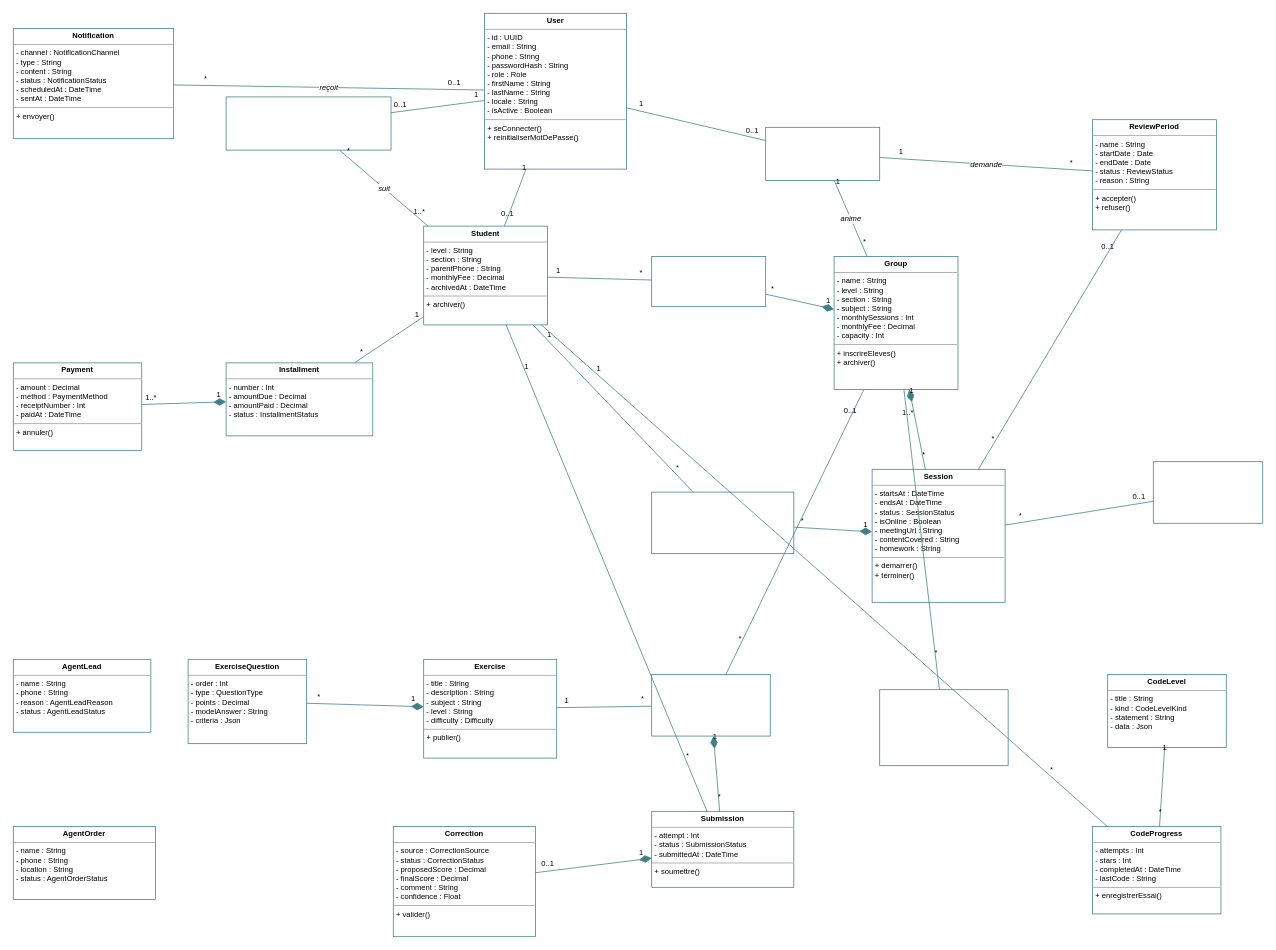
This 1276x950 diagram has some shape labels left out. Each missing label, with the centre of its shape:
"Attendance - status : AttendanceStatus - note : String - markedAt : DateTime" belongs at point 722,522.
"CourseVideo - title : String - url : String - publishedAt : DateTime + publier()" belongs at point 943,727.
"ExerciseAssignment - publishAt : DateTime - dueAt : DateTime - maxAttempts : Int" belongs at point 710,705.
"GroupStudent - joinedAt : DateTime - leftAt : DateTime" belongs at point 708,281.
"Parent - notificationPreferences : Json + suivreEnfant()" belongs at point 308,123.
"Room - name : String - capacity : Int - isActive : Boolean" belongs at point 1208,492.
"Teacher - subjects : String[] + demarrerSeance()" belongs at point 822,153.
